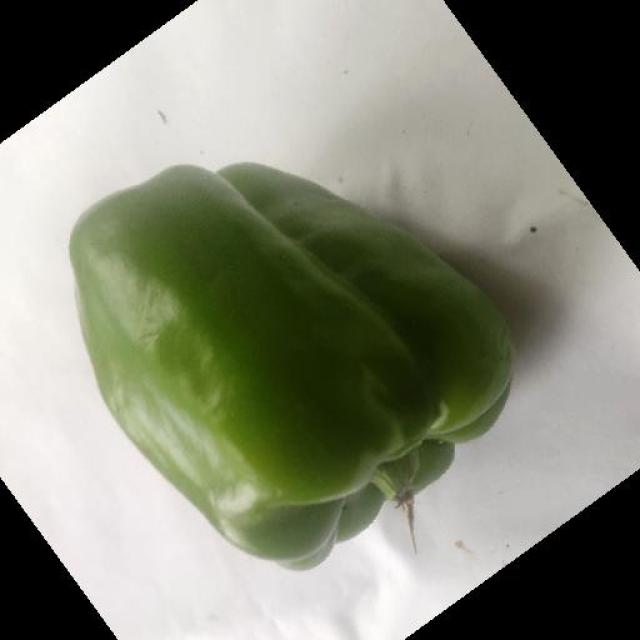Fresh_Capsicum: (61, 125, 522, 525)
